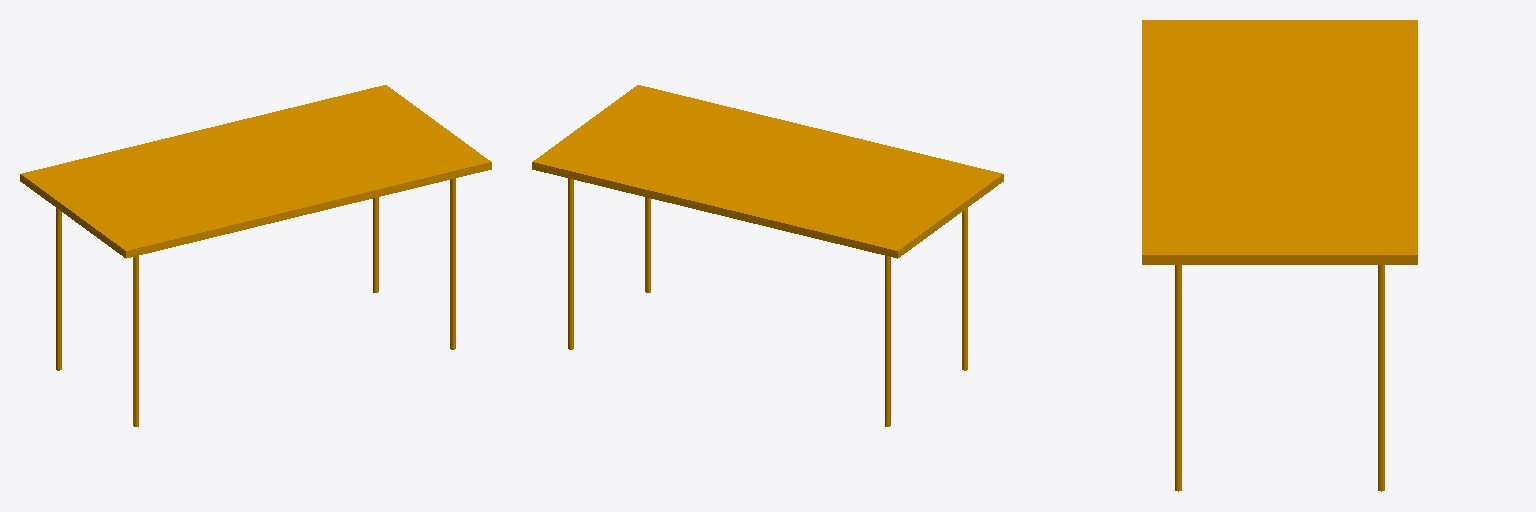
robot.urdf — table:
<?xml version="1.0" encoding="UTF-8"?>
<robot name="table">
	<link name="base">
		<collision>
			<geometry>
				<mesh filename="table.obj"/>
			</geometry>
			<origin xyz="0 0 0"/>
		</collision>
		<visual>
			<geometry>
				<mesh filename="table.obj"/>
			</geometry>
			<origin xyz="0 0 0"/>
		</visual>
		<inertial>
			<mass value="0.0"/>
			<inertia ixx="0.0" ixy="0.0" ixz="-0.0" iyy="0.0" iyz="0.0" izz="0.0" />
			<origin xyz="1.0433049086621972e-17 -2.0866098173243945e-18 -0.024634717988471725"/>
		</inertial>
	</link>
</robot>

--- Render facts (derived) ---
The picture shows the robot from 3 angles, left to right: view 1: azimuth 30°, elevation 25°; view 2: azimuth 150°, elevation 25°; view 3: azimuth 270°, elevation 25°; orthographic projection.
Model table with 1 links and 0 joints (none), rooted at base, posed all joints at 0.
Visible links, largest first — view 1: base; view 2: base; view 3: base.
Link boxes in pixels (x1=…): base: x1=20, y1=85, x2=491, y2=426; base: x1=532, y1=85, x2=1003, y2=426; base: x1=1142, y1=20, x2=1417, y2=491.
Size in the robot's own frame: 1.5 by 0.75 by 0.75 metres.
1 mesh visuals loaded from 1 distinct referenced files (1 OBJ).